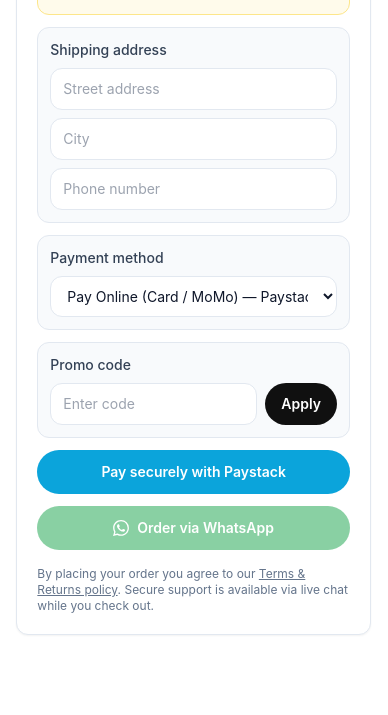
Test: Cart checkout validation › blocks checkout with an empty cart
The image size is (388, 715).
(page scrolled)
Click the button "Pay securely with Paystack" at (194, 472), box [37, 450, 350, 494]
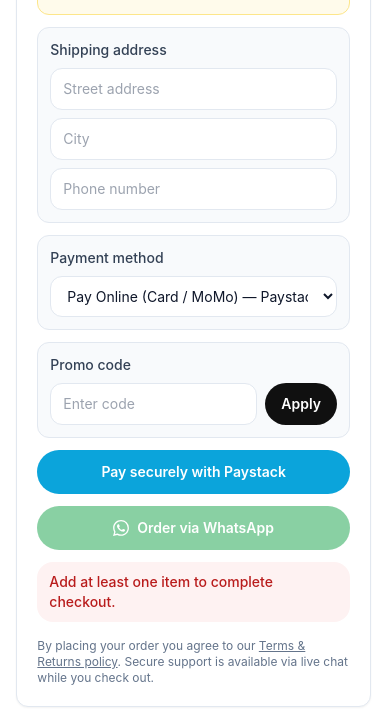
Now the text "Add at least one item to complete checkout." is shown, box [37, 562, 350, 622]
